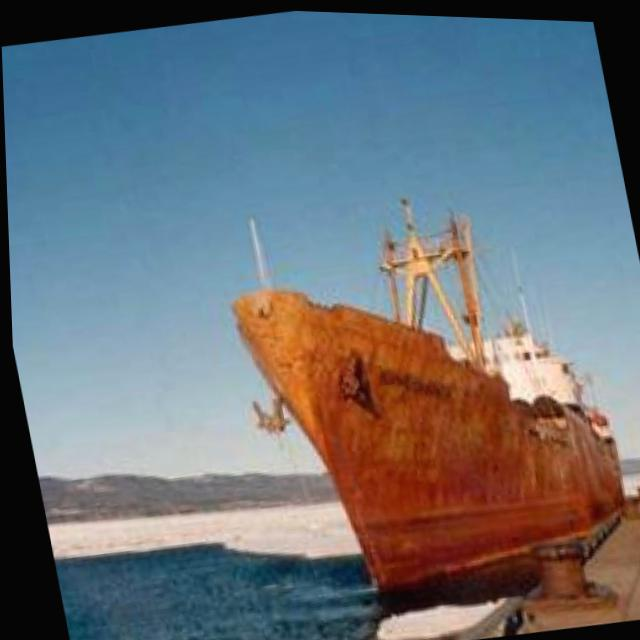ship2: (228, 195, 622, 612)
